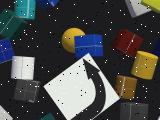Left: (44, 53, 120, 120)
